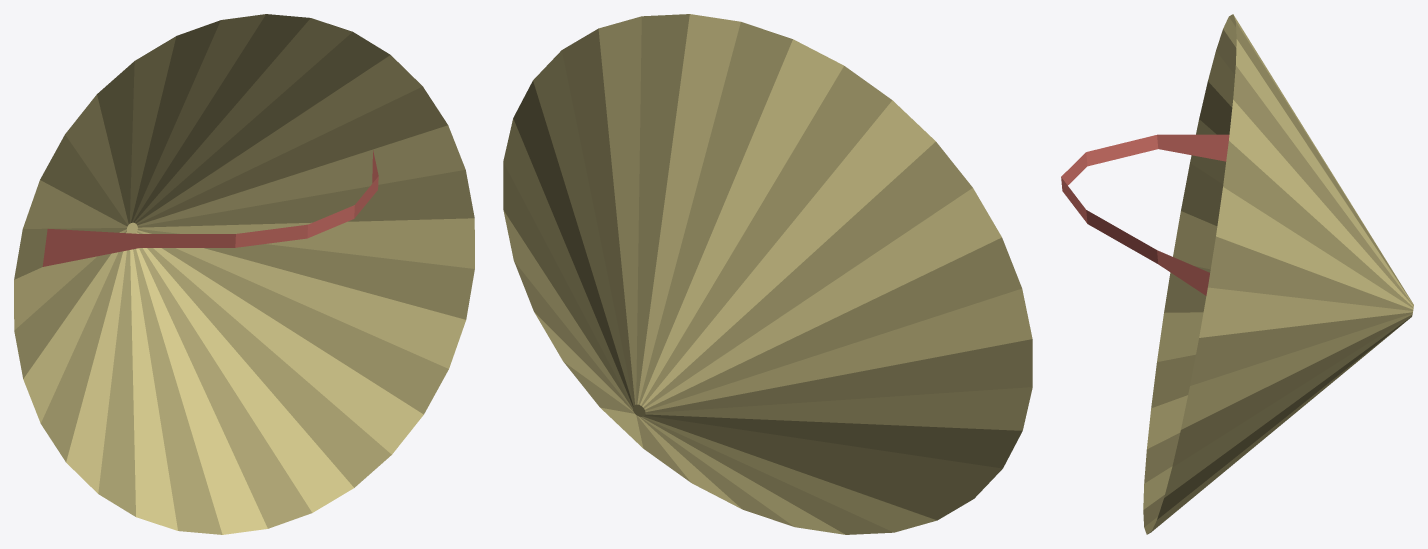
The model's file is FarmerHat.fbx.
The picture shows the model from 3 angles, left to right: view 1: azimuth 30°, elevation 25°; view 2: azimuth 150°, elevation 25°; view 3: azimuth 270°, elevation 25°; orthographic projection. The views are drawn at different scales.
Visible parts, largest first — view 1: Plane.003; view 2: Plane.003; view 3: Plane.003.
Boxes of the visible parts, <box> form: Plane.003: <box>14,14,474,534</box>; Plane.003: <box>503,14,1032,534</box>; Plane.003: <box>1061,14,1413,534</box>.
Bounding box in the file's own units: 142 × 140 × 94.89.
